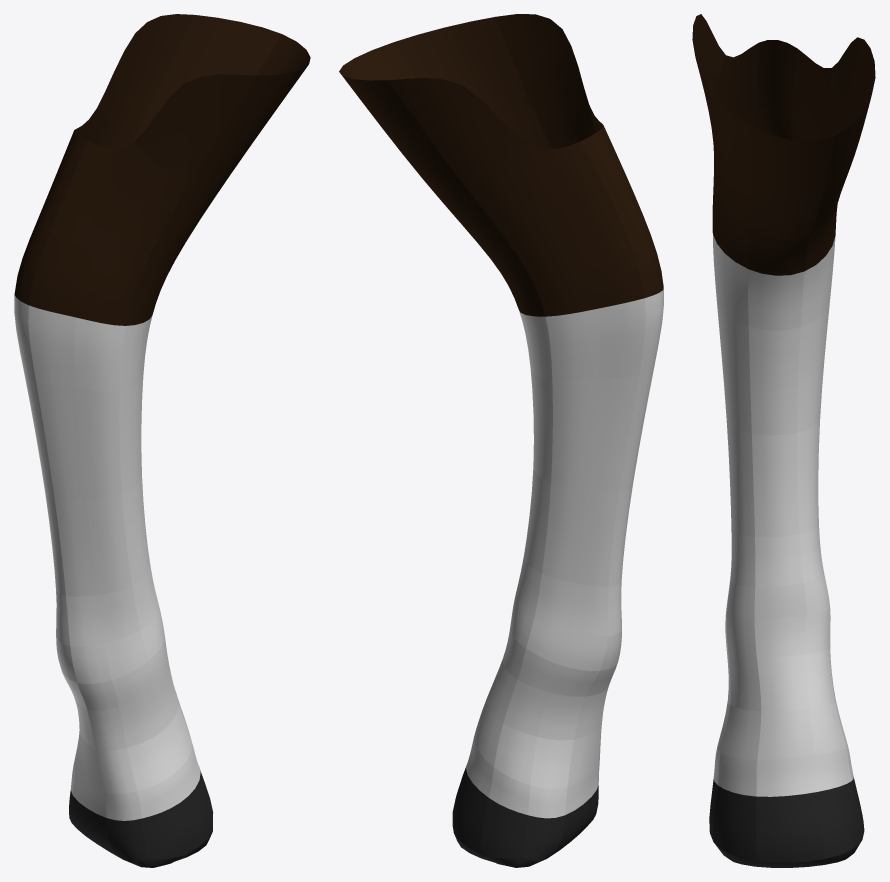
Rendered from B_cow.fbx.
The picture shows the model from 3 angles, left to right: view 1: azimuth 30°, elevation 25°; view 2: azimuth 150°, elevation 25°; view 3: azimuth 270°, elevation 25°; orthographic projection. The views are drawn at different scales.
Visible parts, largest first — view 1: COWback.001; view 2: COWback.001; view 3: COWback.001.
Boxes of the visible parts, left/top/right/bottom form: COWback.001: left=14, top=14, right=310, bottom=867; COWback.001: left=339, top=14, right=663, bottom=867; COWback.001: left=692, top=14, right=875, bottom=867.
Bounding box in the file's own units: 53.19 × 106 × 269.
